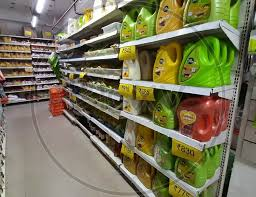saffola: (177, 97, 214, 141)
